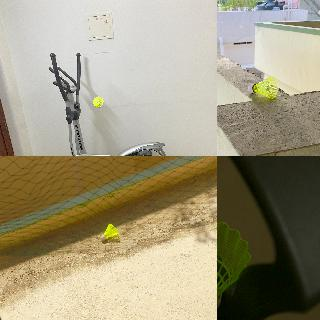shuttlecock: (217, 219, 251, 314), (248, 76, 276, 98), (100, 224, 118, 240), (92, 96, 104, 108)
